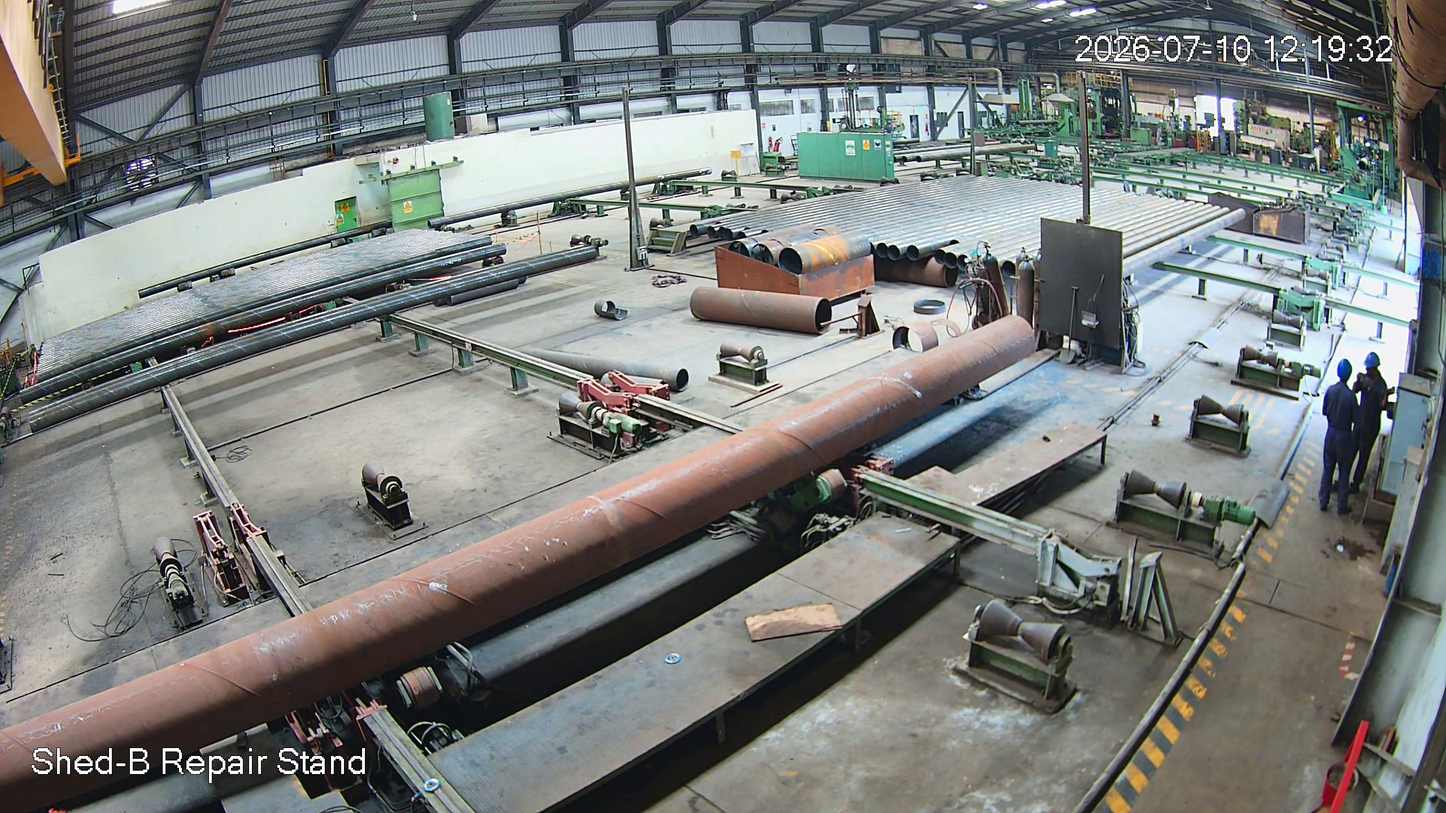Helmet: (1358, 346, 1383, 384), (1331, 354, 1358, 385)
Person: (1319, 357, 1359, 518), (1352, 349, 1389, 484)
